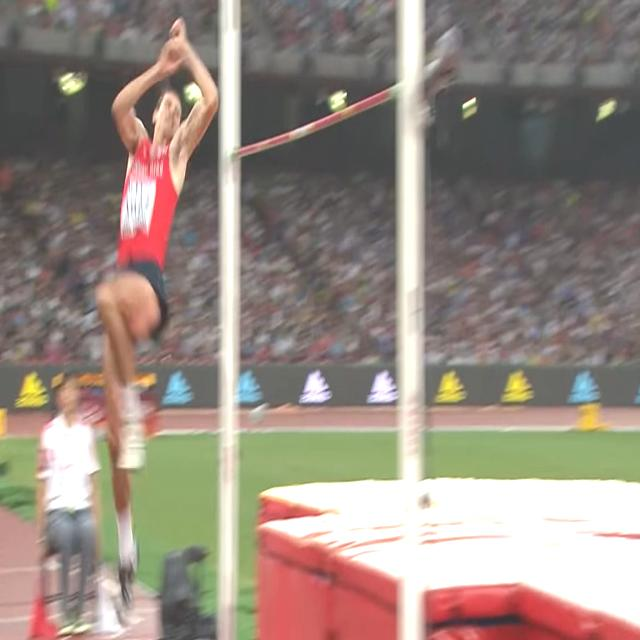jump: (94, 18, 220, 617)
